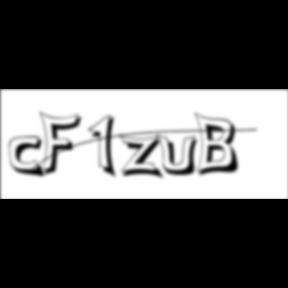1: (88, 114, 122, 182)
B: (195, 111, 245, 179)
F: (39, 110, 87, 178)
c: (9, 136, 49, 180)
u: (157, 132, 205, 178)
z: (120, 134, 168, 182)
